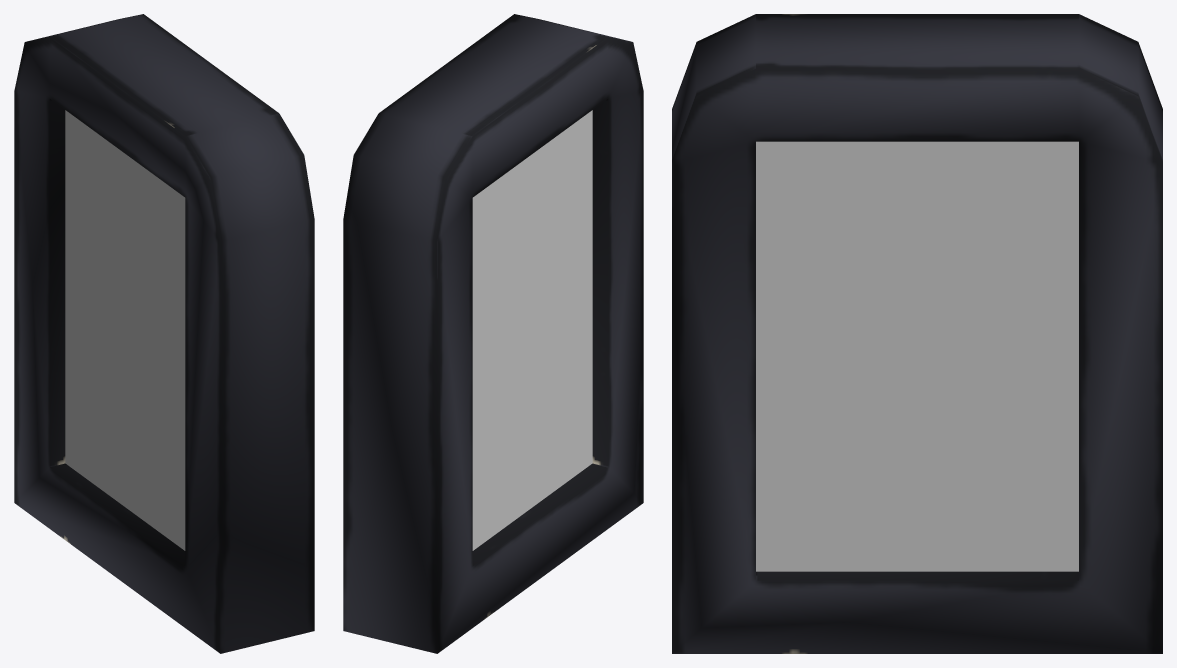
Rendered from decor_AdScreen.fbx.
3 renders of one model, left to right at view 1: azimuth 30°, elevation 25°; view 2: azimuth 150°, elevation 25°; view 3: azimuth 270°, elevation 25°, orthographic. The views are drawn at different scales.
Visible parts, largest first — view 1: AdScreen; view 2: AdScreen; view 3: AdScreen.
Part boxes in pixels (x1,y1,x2,y2): AdScreen: (14,14,314,653); AdScreen: (343,14,643,653); AdScreen: (672,14,1162,653).
Bounding box in the file's own units: 100 × 500 × 380.
Materials: 2 (1 with a texture image).
